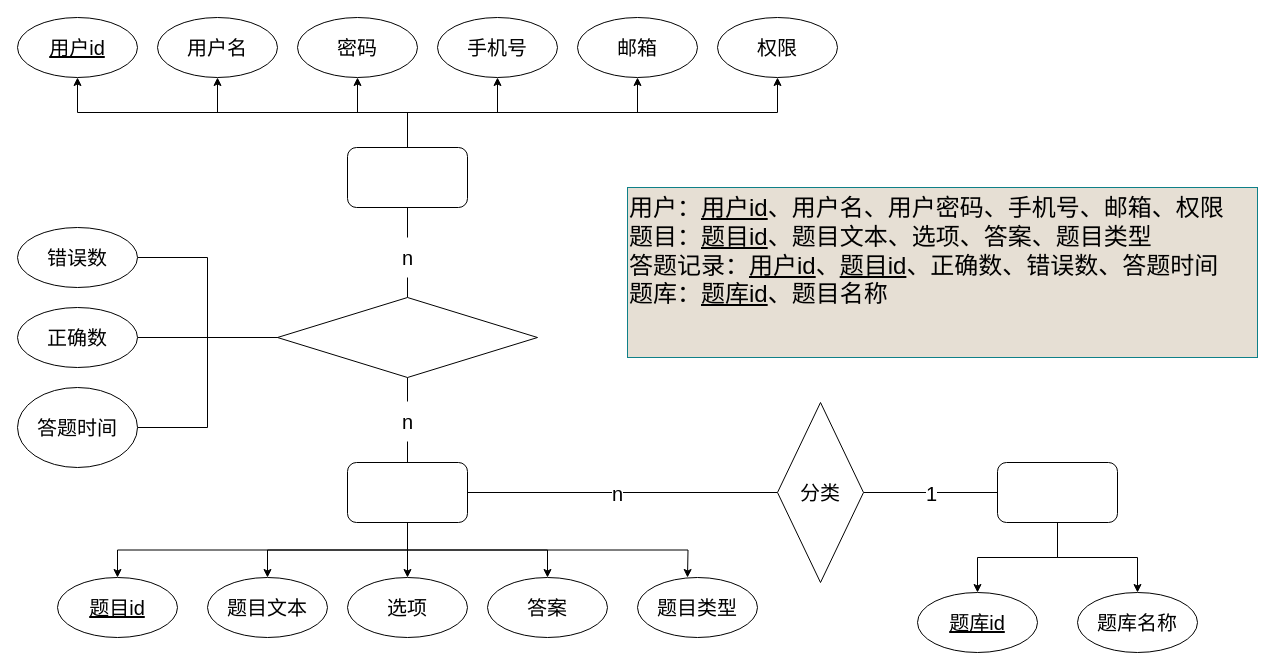
Some shapes in this 1275 by 670 pixel diagram are drawn without their labels. The centre of each missing label's shape, as x and y in pixels:
用户: the point at 407,177
答题记录: the point at 407,337
题库: the point at 1057,492
题目: the point at 407,492
